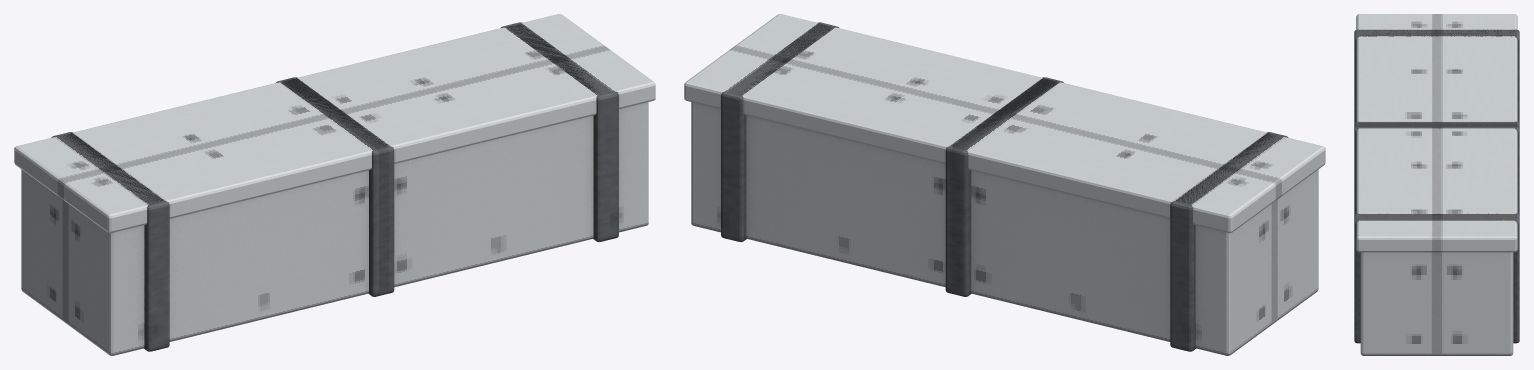
Rendered from base_case.glb.
3 renders of one model, left to right at view 1: azimuth 30°, elevation 25°; view 2: azimuth 150°, elevation 25°; view 3: azimuth 270°, elevation 25°, orthographic. The views are drawn at different scales.
Parts seen in each view (by area): view 1: base_case.002; view 2: base_case.002; view 3: base_case.002.
Boxes of the visible parts, bbox=[...] form: base_case.002: bbox=[14, 14, 655, 355]; base_case.002: bbox=[684, 14, 1325, 355]; base_case.002: bbox=[1354, 14, 1519, 355].
Size of the model in its own units: 2.44 by 0.62 by 0.76.
Materials: 2 (2 with a texture image).
